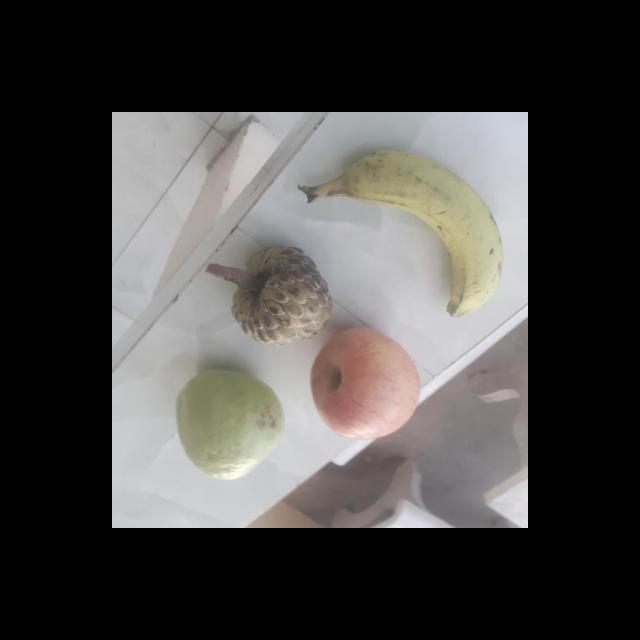Sakya fruit: (220, 245, 330, 348)
apple: (306, 330, 422, 443)
banana: (300, 150, 501, 320)
guava: (174, 372, 282, 476)
